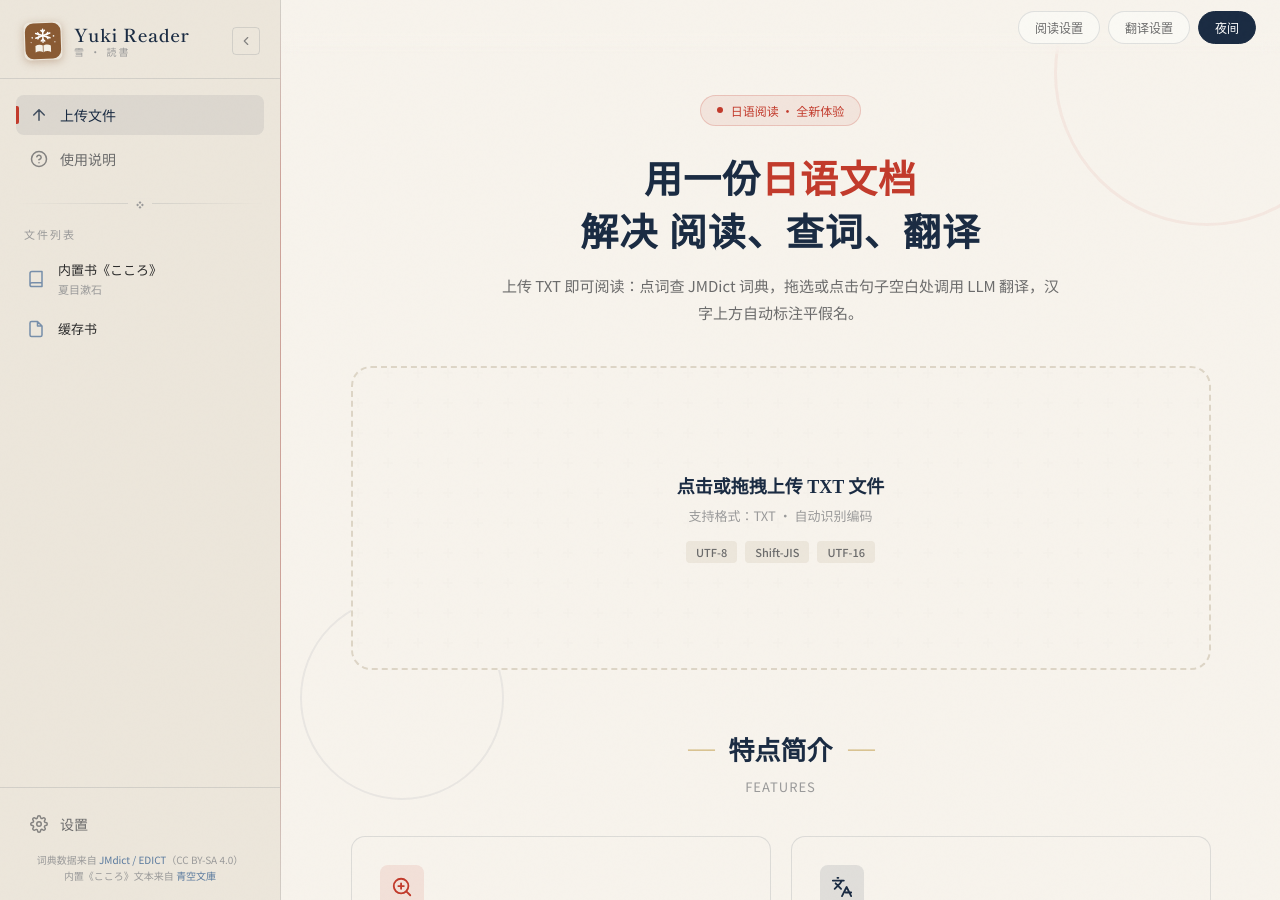
Test case: 翻译结果缓存 › network failure does not write the cache
Step 1. Click the button "缓存书" → [125, 328], box [12,309,238,348]
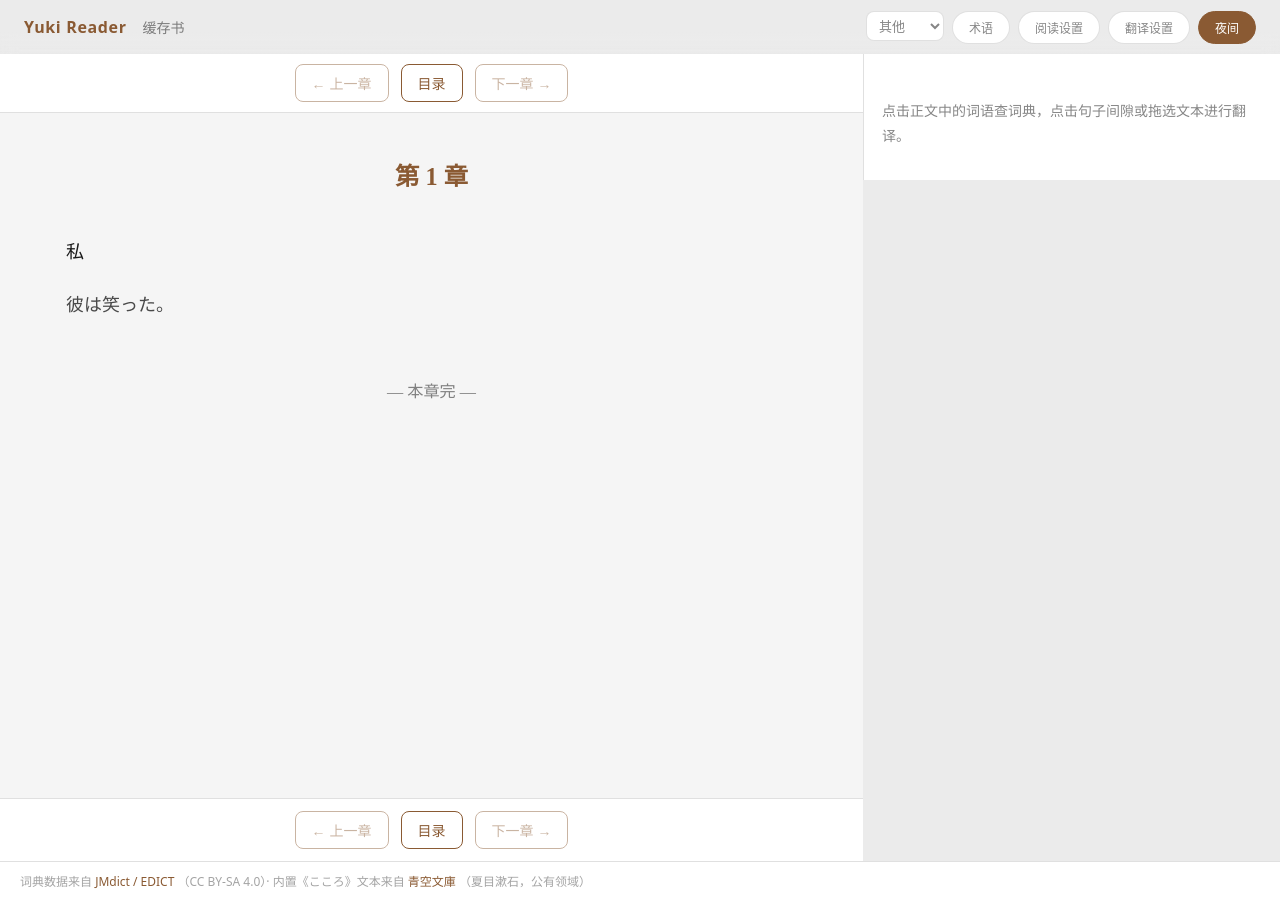
Step 2. Click the element with test id "sentence" showing "私" → [75, 252], box [66,242,84,262]
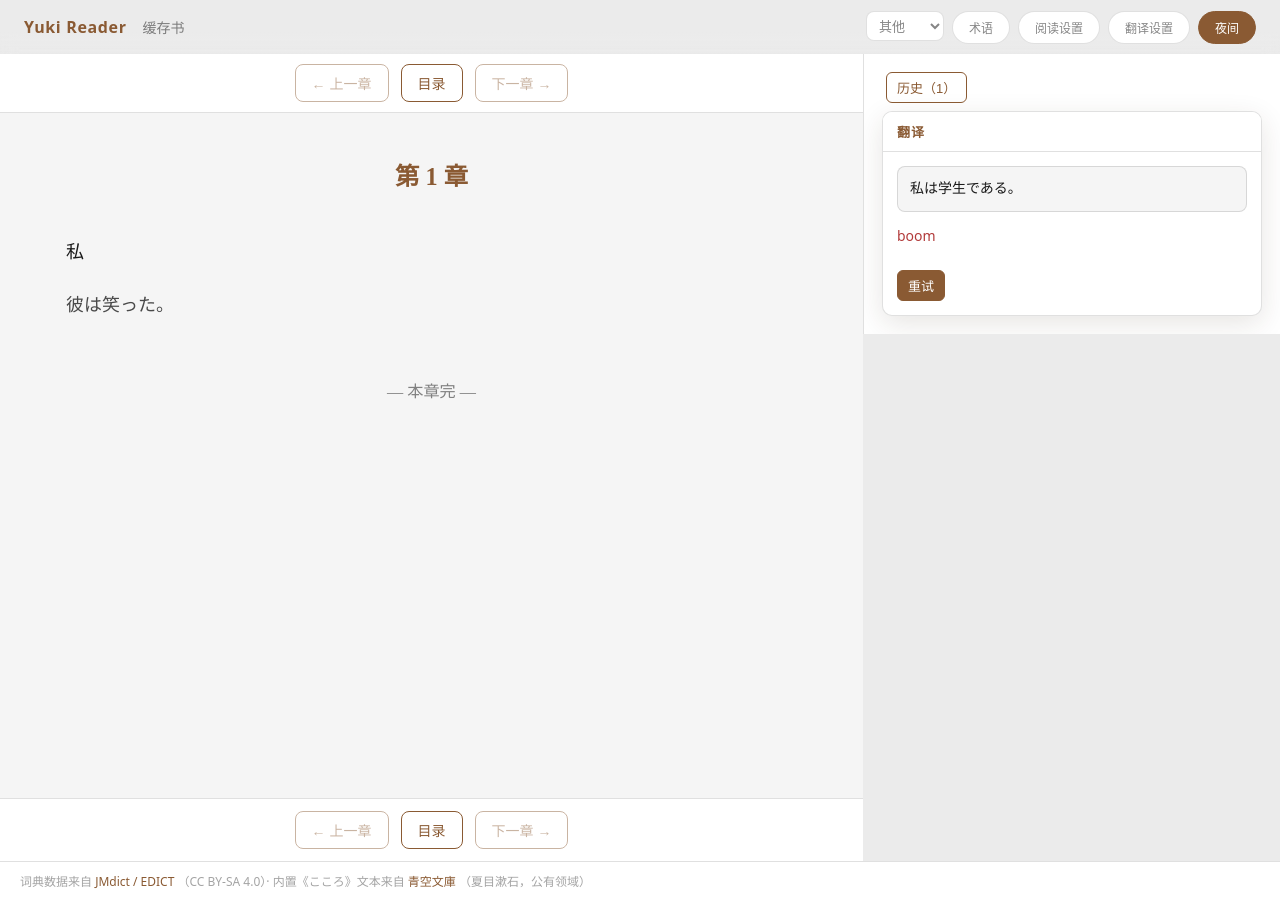
Now the text "boom" is shown, box [897,226,936,245]
